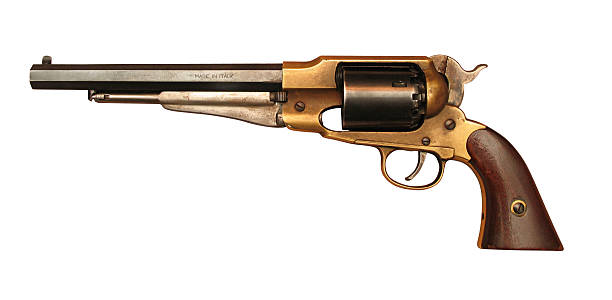pistol: (26, 45, 568, 258)
